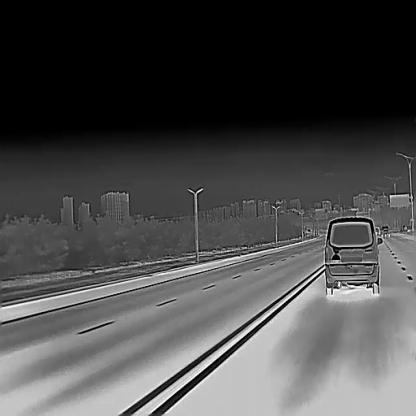car: (323, 214, 383, 294), (381, 225, 389, 237)
